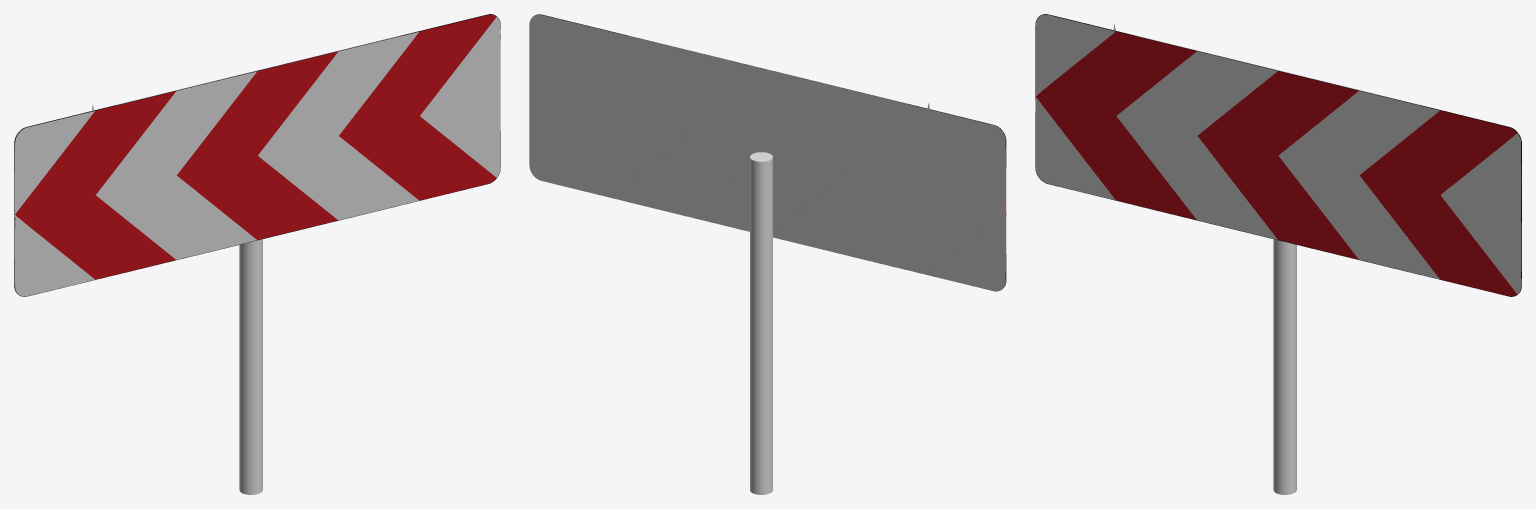
Rendered from Sharp_turn_left_long_1_leg.dae.
The picture shows the model from 3 angles, left to right: view 1: azimuth 30°, elevation 25°; view 2: azimuth 150°, elevation 25°; view 3: azimuth 330°, elevation 25°; orthographic projection. The views are drawn at different scales.
Visible parts, largest first — view 1: path2457, Cylinder; view 2: path2457, Cylinder; view 3: path2457, Cylinder.
Part boxes in pixels (x1=…): path2457: x1=14, y1=14, x2=500, y2=296; Cylinder: x1=239, y1=159, x2=262, y2=494; path2457: x1=529, y1=14, x2=1006, y2=291; Cylinder: x1=750, y1=152, x2=772, y2=494; path2457: x1=1035, y1=14, x2=1521, y2=296; Cylinder: x1=1273, y1=239, x2=1296, y2=494.
Size of the model in its own units: 0.2994 by 0.0139 by 0.254.
